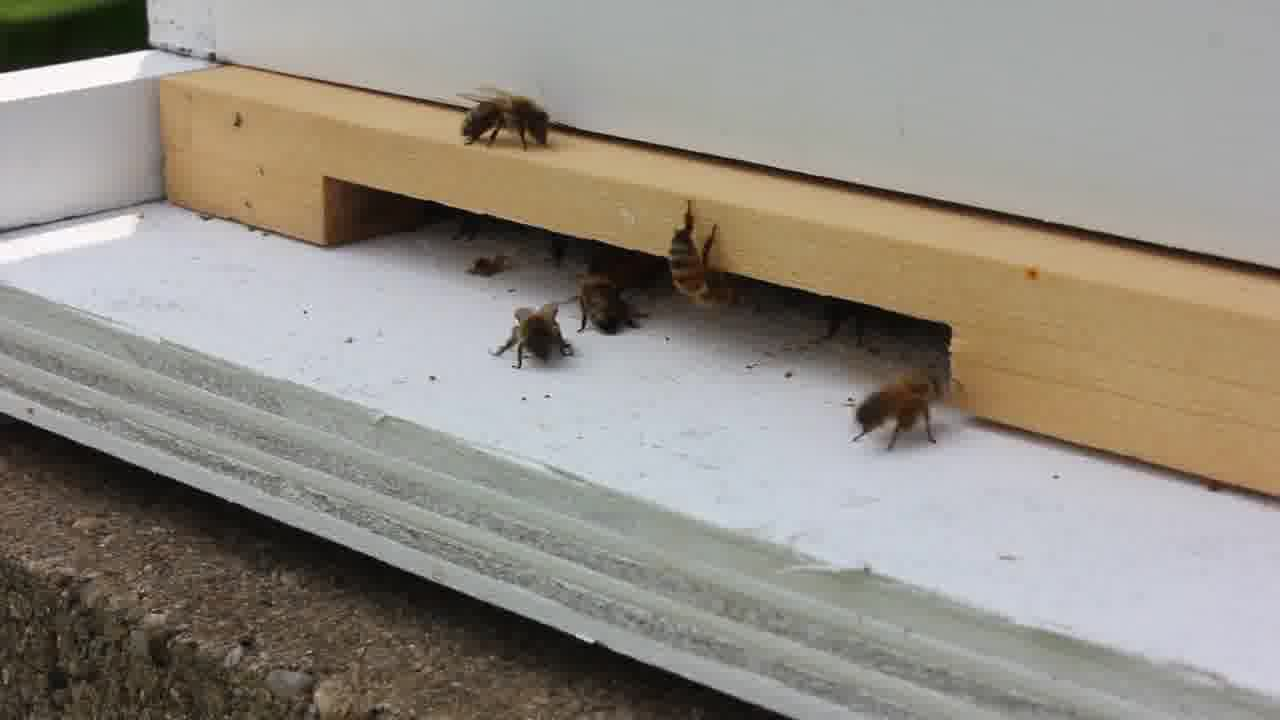pollen: (845, 364, 949, 453)
